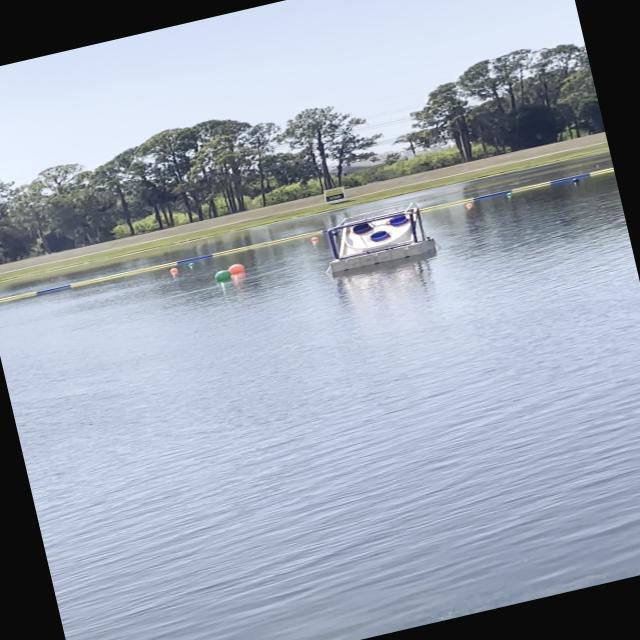buoy: (211, 268, 232, 282), (228, 261, 245, 274), (570, 176, 581, 183), (309, 235, 319, 242), (464, 201, 474, 207), (504, 191, 514, 197), (169, 266, 178, 272), (187, 262, 196, 268)
